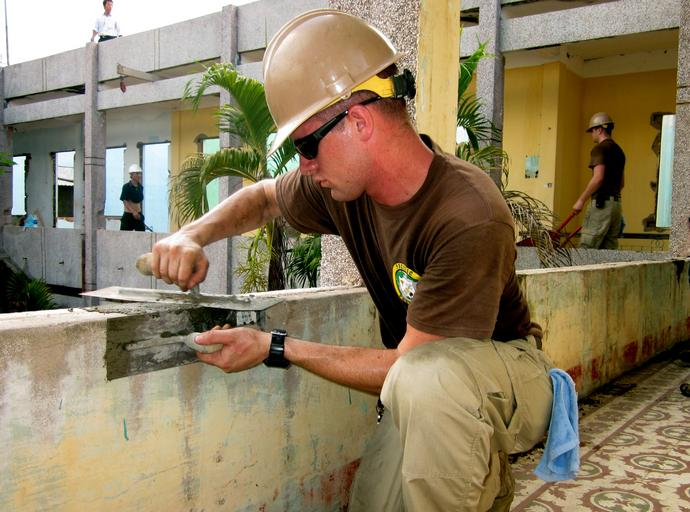Hard Hat: (253, 13, 438, 207), (585, 110, 616, 145), (129, 165, 144, 183)
Person: (141, 13, 552, 512), (570, 108, 627, 250), (116, 165, 145, 230), (92, 2, 125, 45)
